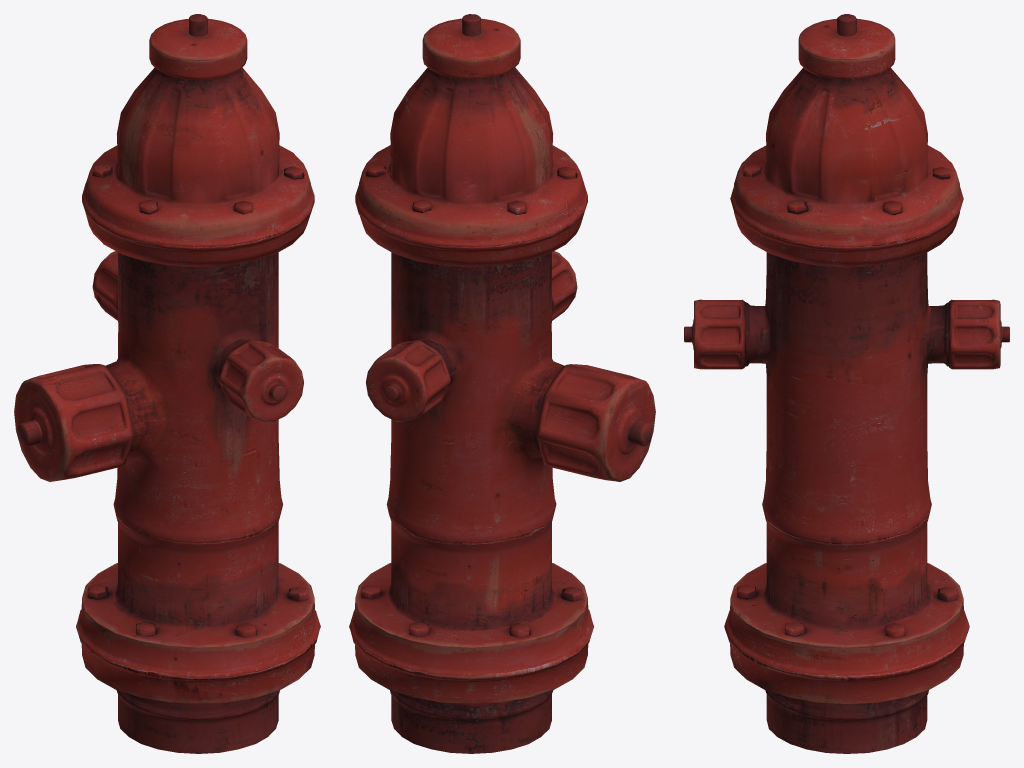
The model's file is FireHydrant.glb.
3 views of the same model, side by side, from view 1: azimuth 30°, elevation 25°; view 2: azimuth 150°, elevation 25°; view 3: azimuth 270°, elevation 25° (orthographic).
Visible parts, largest first — view 1: FireHydrant; view 2: FireHydrant; view 3: FireHydrant.
Boxes of the visible parts, x1,y1,x2,y2 form: FireHydrant: [14, 14, 320, 753]; FireHydrant: [349, 14, 655, 753]; FireHydrant: [684, 14, 1009, 753].
Size of the model in its own units: 0.4203 by 1 by 0.4203.
1 material, 1 textured.
